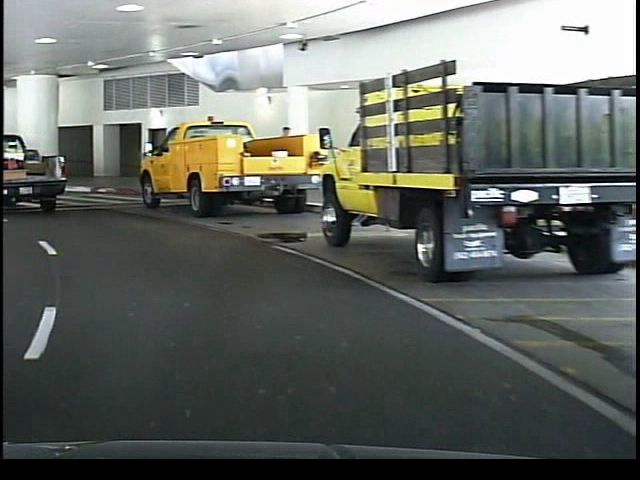person: (271, 121, 296, 198)
